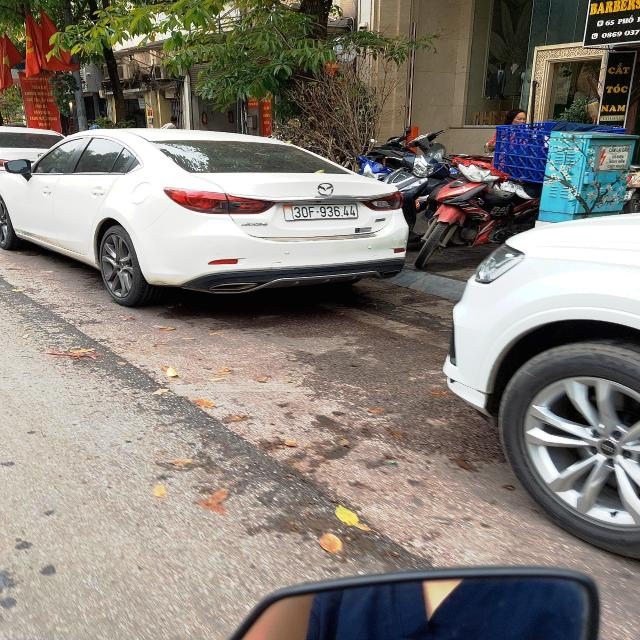license_plate: (291, 204, 361, 221)
